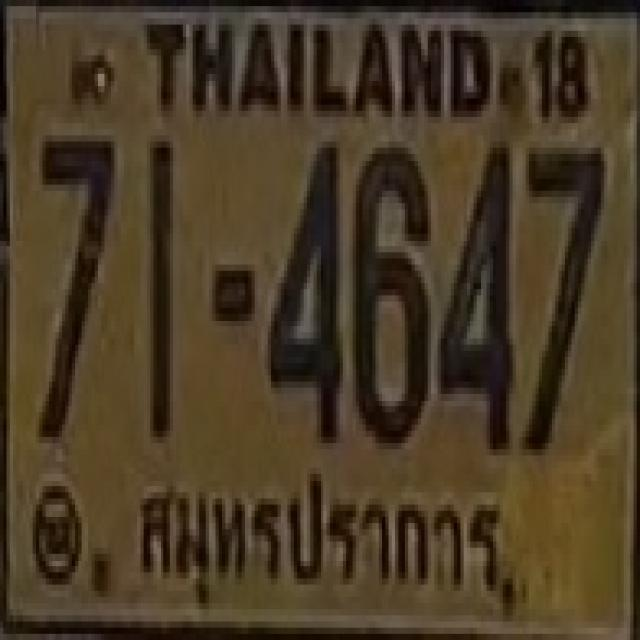1: (147, 138, 170, 434)
4: (438, 135, 510, 443), (268, 135, 340, 437)
6: (351, 141, 426, 437)
7: (522, 142, 601, 449), (36, 129, 111, 437)
SPK: (132, 457, 509, 631)
